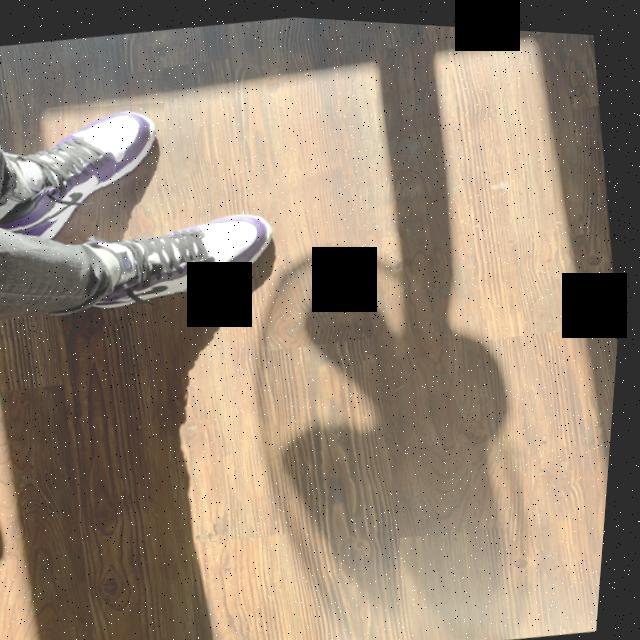shoe: (52, 194, 302, 341), (0, 85, 186, 261)
